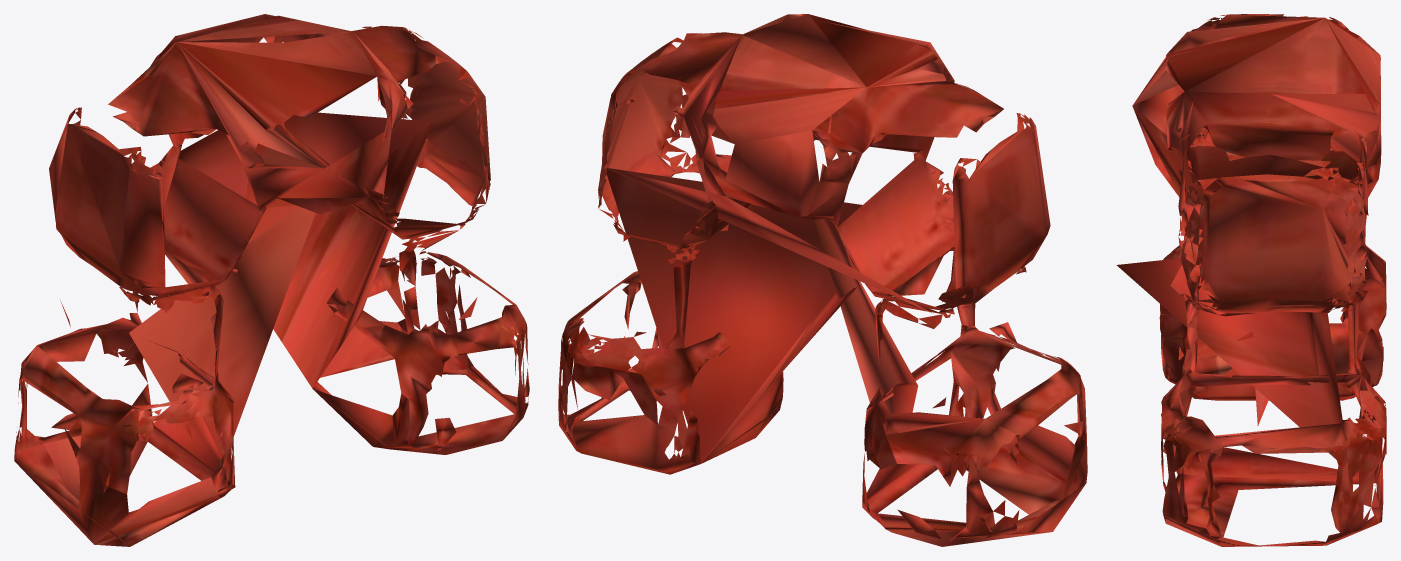
The model's file is lg-desert-rock-arch.glb.
3 views of the same model, side by side, from view 1: azimuth 30°, elevation 25°; view 2: azimuth 150°, elevation 25°; view 3: azimuth 270°, elevation 25° (orthographic). The views are drawn at different scales.
Parts seen in each view (by area): view 1: geometry_0; view 2: geometry_0; view 3: geometry_0.
Part boxes in pixels (x1,y1,x2,y2): geometry_0: (14,14,529,546); geometry_0: (558,14,1087,546); geometry_0: (1116,14,1386,546).
Bounding box in the file's own units: 1 × 0.9234 × 0.5328.
Materials: 1 (1 with a texture image).
